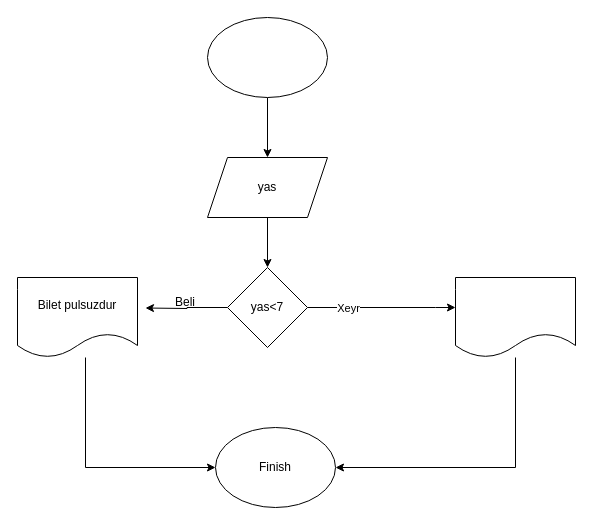
This 593x525 diagram has some shape labels left out. The centre of each missing label's shape, as x and y in pixels:
"Bilet 8 azn" goes at point (515, 317).
"Start" goes at point (267, 57).
